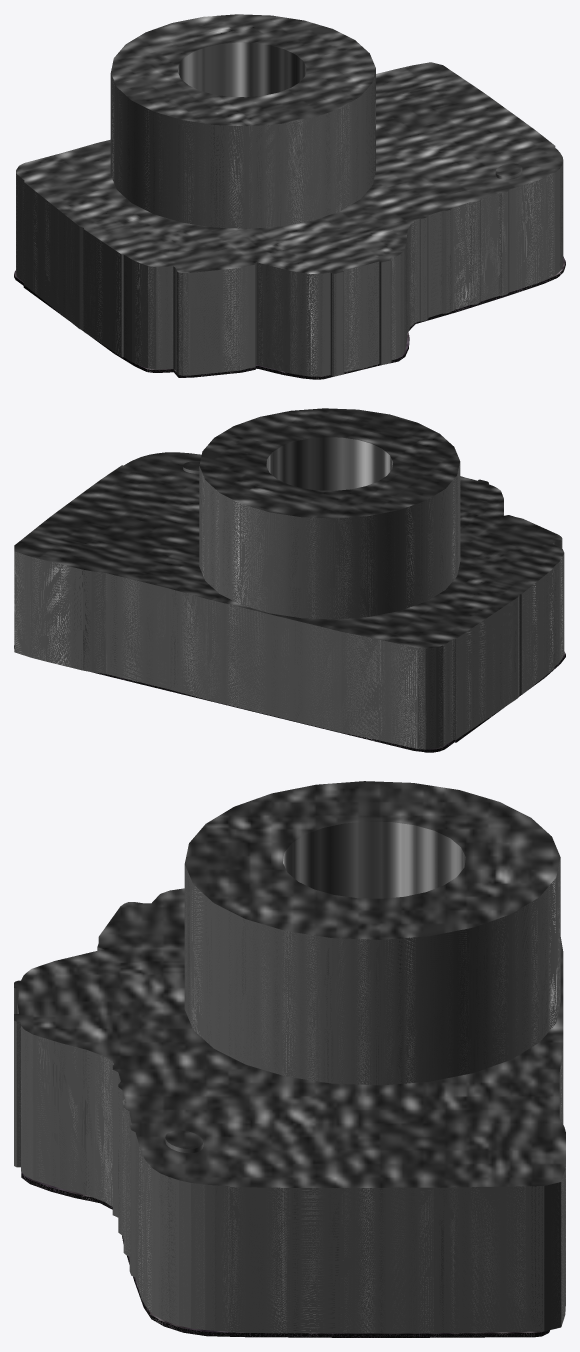
Rendered from model_scale.obj.
3 views of the same model, one above another, from view 1: azimuth 30°, elevation 25°; view 2: azimuth 150°, elevation 25°; view 3: azimuth 270°, elevation 25° (orthographic). The views are drawn at different scales.
Parts seen in each view (by area): view 1: mesh1_mesh1-geometry, mesh2_mesh2-geometry; view 2: mesh1_mesh1-geometry, mesh2_mesh2-geometry; view 3: mesh1_mesh1-geometry, mesh2_mesh2-geometry.
Part boxes in pixels (left/top/right/bottom): mesh1_mesh1-geometry: left=16, top=14, right=563, bottom=376; mesh2_mesh2-geometry: left=14, top=256, right=565, bottom=379; mesh1_mesh1-geometry: left=14, top=408, right=564, bottom=749; mesh2_mesh2-geometry: left=14, top=645, right=565, bottom=752; mesh1_mesh1-geometry: left=14, top=781, right=565, bottom=1333; mesh2_mesh2-geometry: left=21, top=1172, right=549, bottom=1337.
Size of the model in its own units: 0.1592 by 0.0728 by 0.1217.
